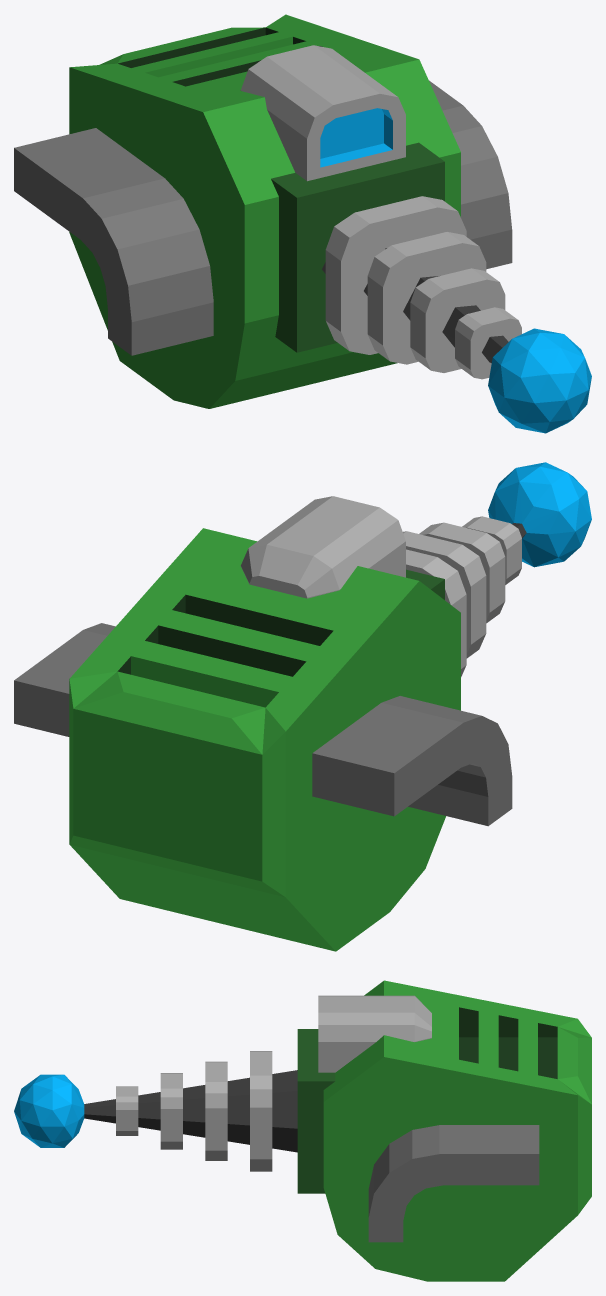
The model's file is lighting_cannon.fbx.
3 renders of one model, top to bottom at view 1: azimuth 30°, elevation 25°; view 2: azimuth 150°, elevation 25°; view 3: azimuth 270°, elevation 25°, orthographic. The views are drawn at different scales.
Visible parts, largest first — view 1: Cube.022, Cube.059, Cube.057, Cube.061, Cube.058, Icosphere; view 2: Cube.022, Cube.059, Cube.061, Cube.057, Icosphere; view 3: Cube.022, Cube.059, Icosphere, Cube.057, Cube.061, Cube.058.
Part boxes in pixels (x1,y1,x2,y2): Cube.022: (69,14,460,408); Cube.059: (14,80,512,355); Cube.057: (325,196,521,379); Cube.061: (240,45,405,181); Cube.058: (271,142,444,352); Icosphere: (322,248,591,433); Cube.022: (69,528,460,951); Cube.059: (14,623,512,826); Cube.061: (240,496,405,598); Cube.057: (403,516,521,676); Icosphere: (488,462,591,567); Cube.022: (323,980,591,1281); Cube.059: (368,1125,539,1242); Icosphere: (14,1070,297,1152); Cube.057: (116,1051,272,1171); Cube.061: (318,995,431,1072); Cube.058: (297,1029,335,1193).
Bounding box in the file's own units: 97.48 × 80.63 × 177.
